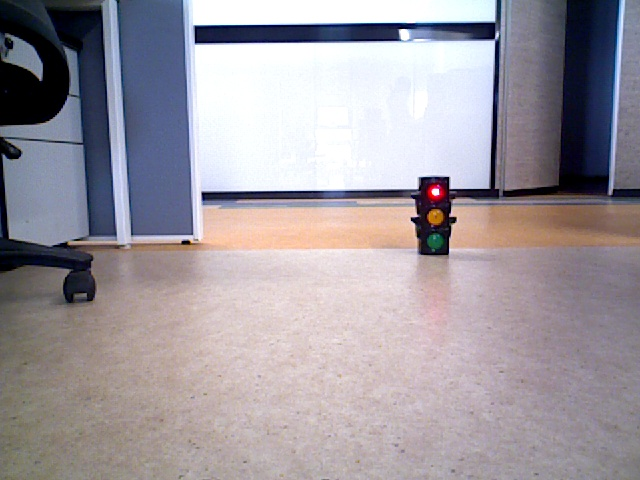red: (418, 177, 446, 253)
